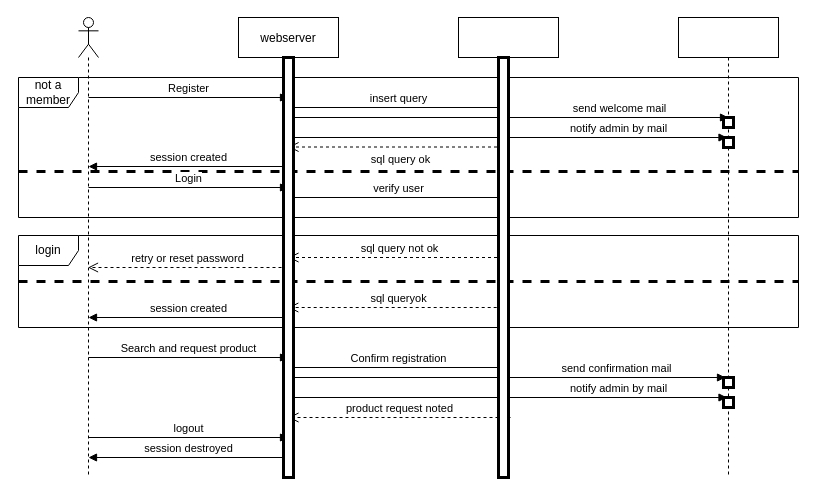
The diagram is 817 pixels wide and 496 high, and some of its shapes have lost their labels. The box of each missing label's shape, as (x1, y1, x2, y2) in pixels:
database server: (458, 16, 558, 478)
SMTP server: (678, 16, 778, 478)
